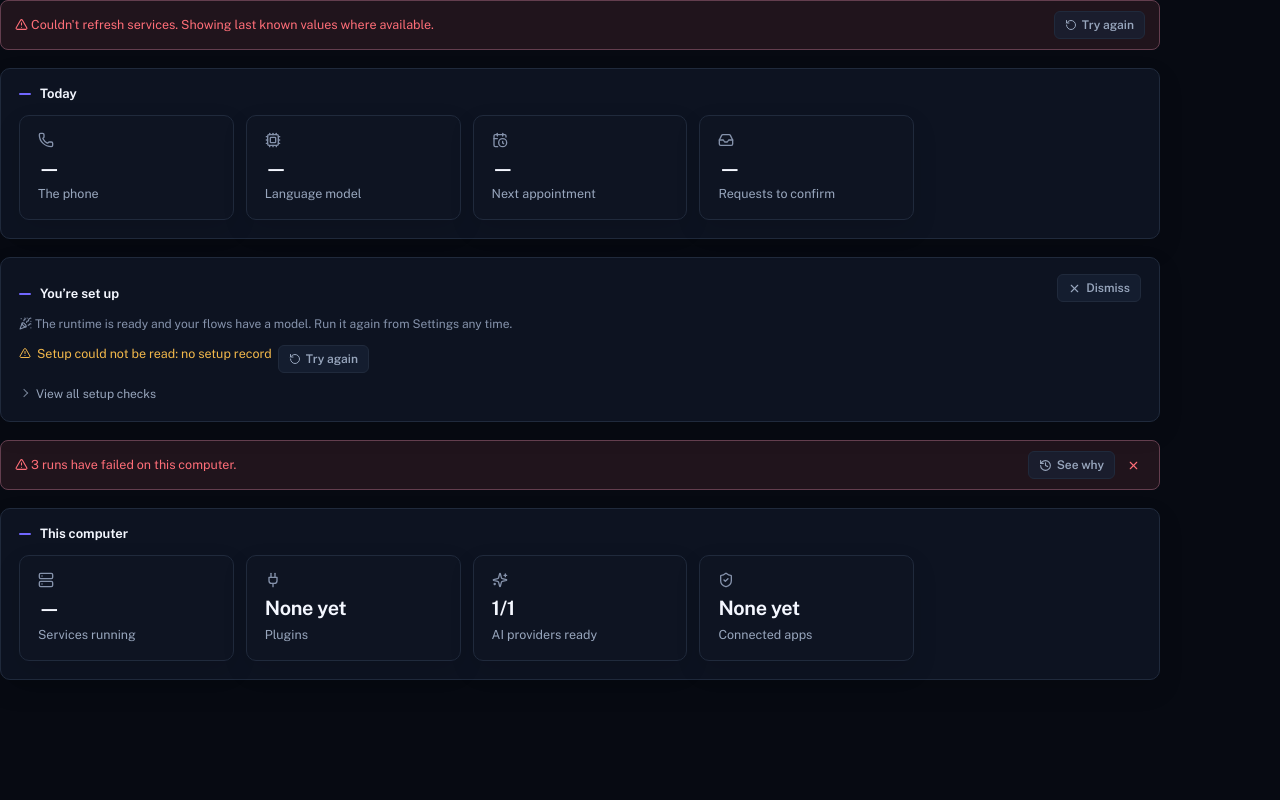
Test: OverviewPanel failure reporting › surfaces partial refresh failures and recovers on demand
Step 1. Click the 1st button "Try again" → (1099, 25), box [1054,11,1145,39]
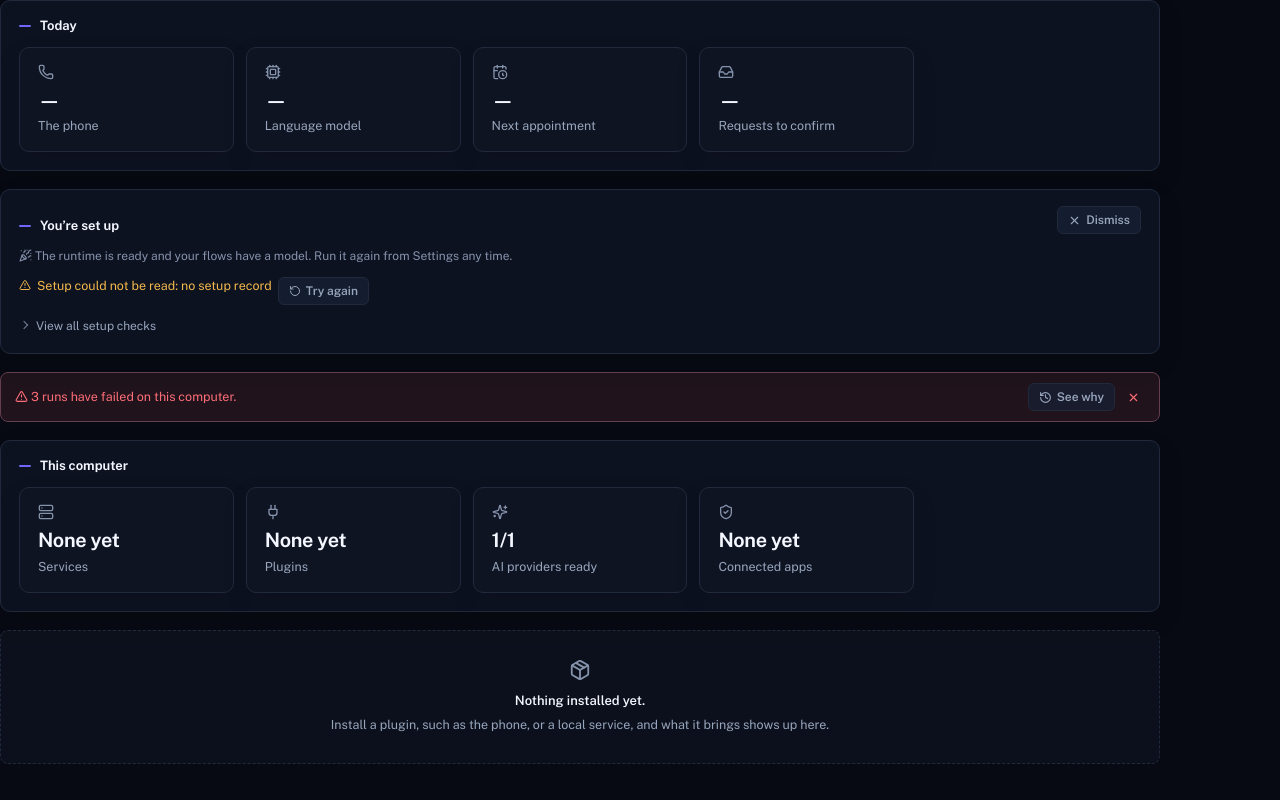
expect the text "Couldn't refresh services" is gone: met
